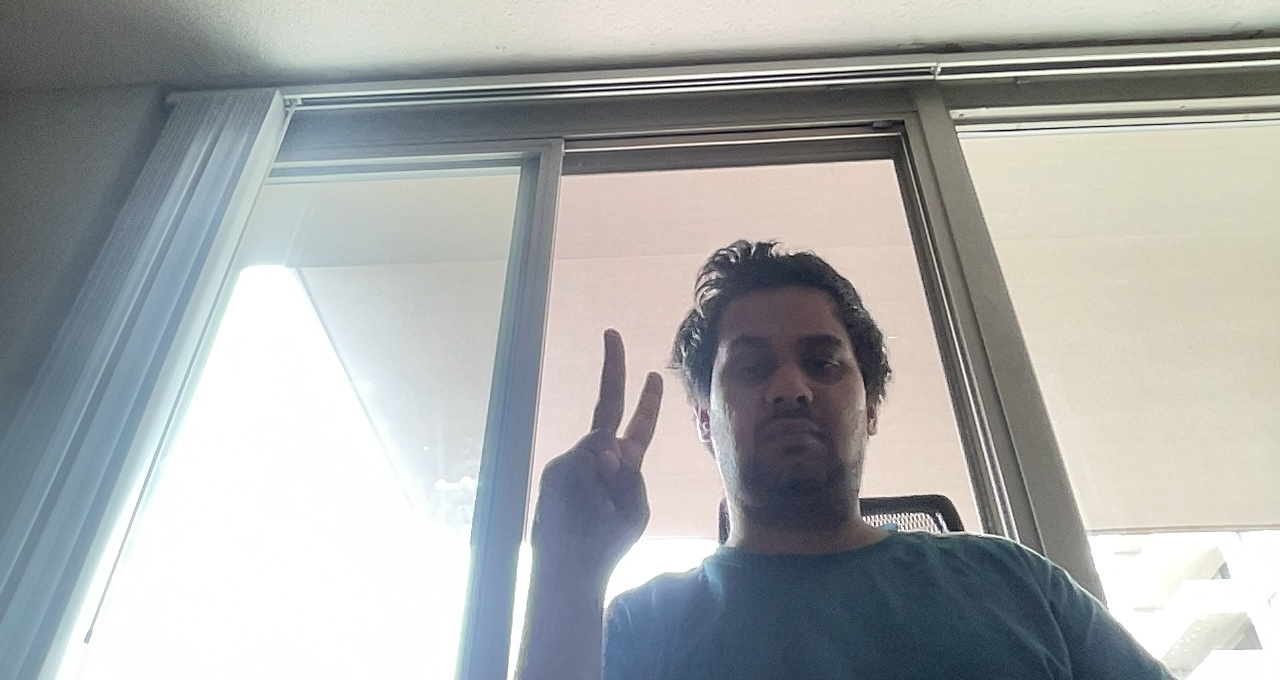peace sign: (533, 322, 673, 556)
